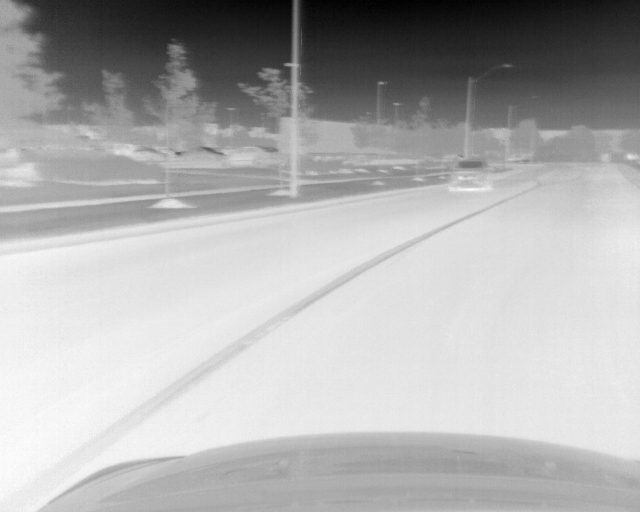car: (446, 156, 490, 192), (227, 145, 282, 168), (127, 145, 165, 163), (178, 148, 222, 162)
